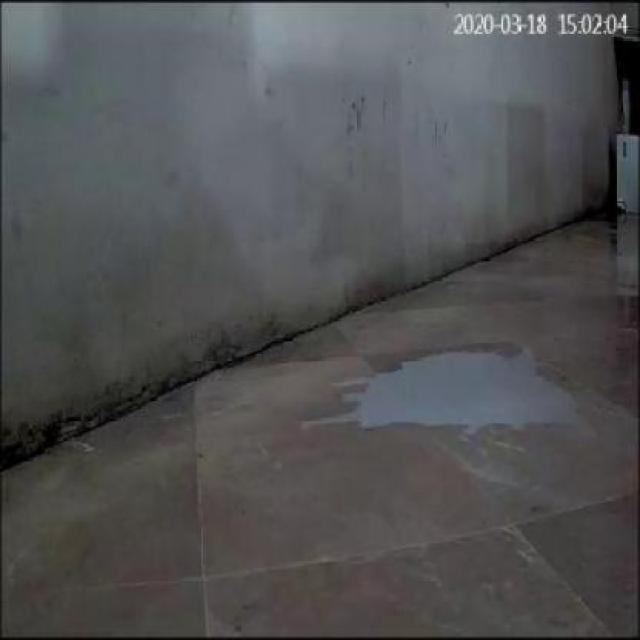spillage: (302, 343, 582, 434)
